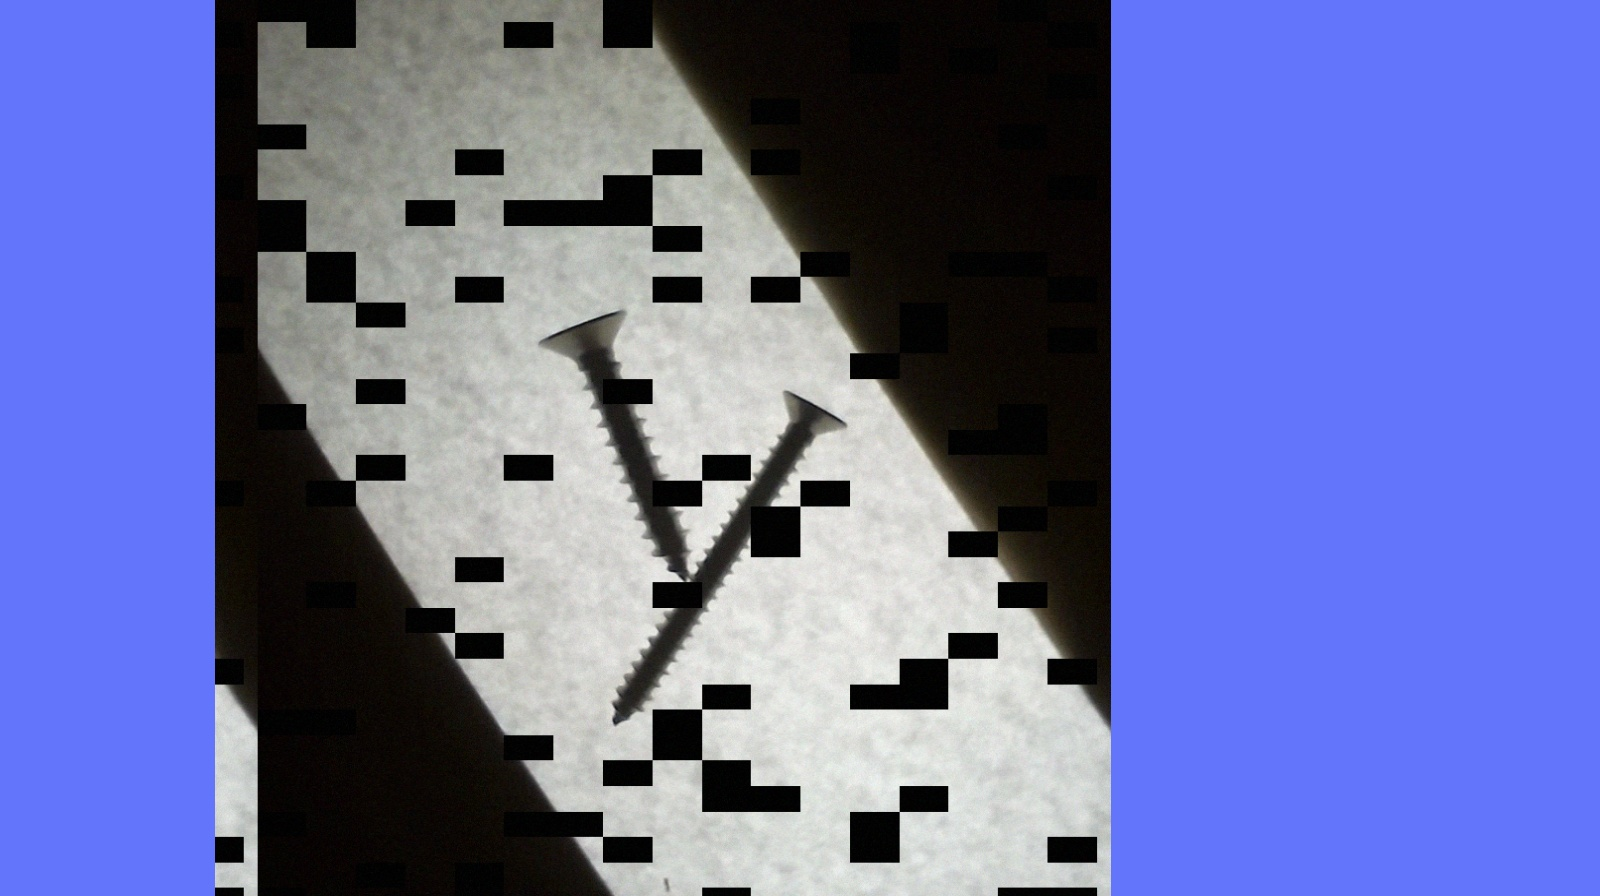S001: (534, 305, 691, 580)
S002: (605, 381, 846, 724)
